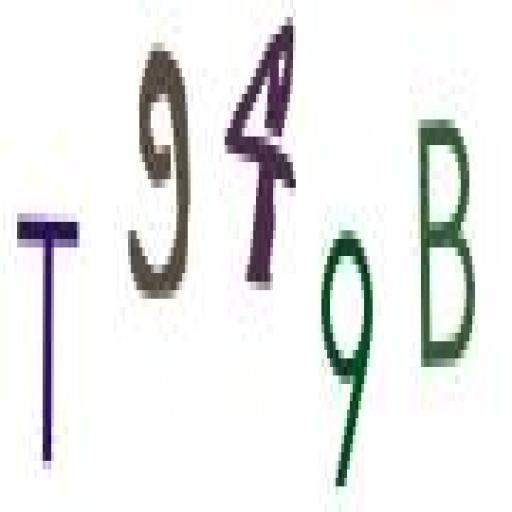4: (220, 7, 307, 310)
9: (116, 19, 204, 337), (318, 211, 385, 511)
B: (414, 94, 488, 388)
T: (8, 179, 90, 481)
